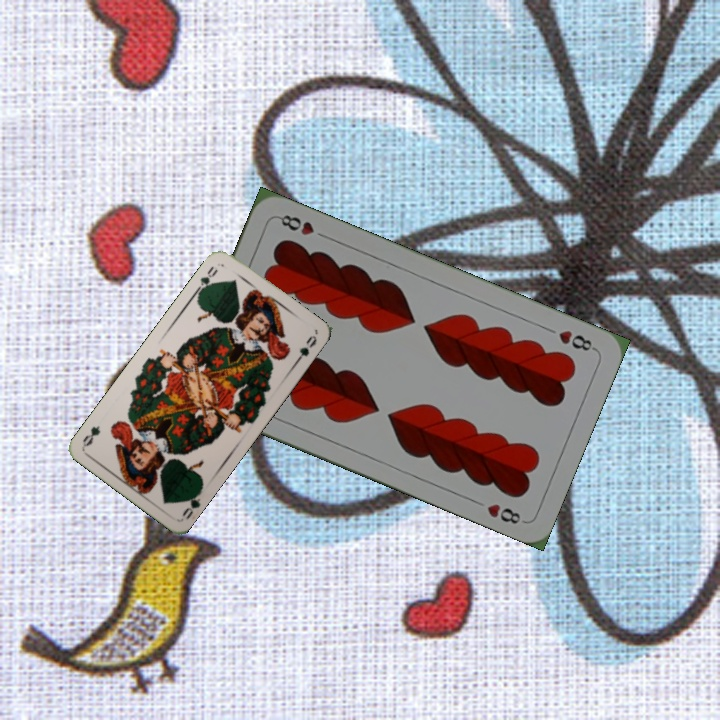GO: (178, 484, 205, 522), (191, 262, 220, 297)
H8: (554, 326, 599, 354)
